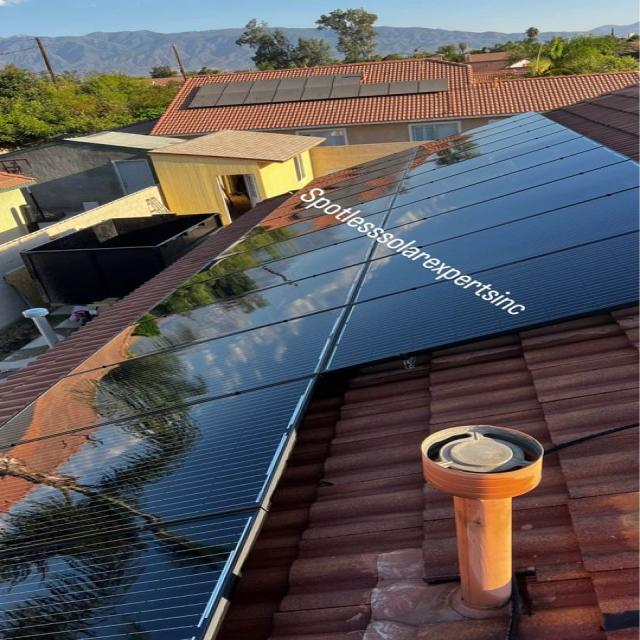clean-solar-panel: (2, 114, 636, 640)
